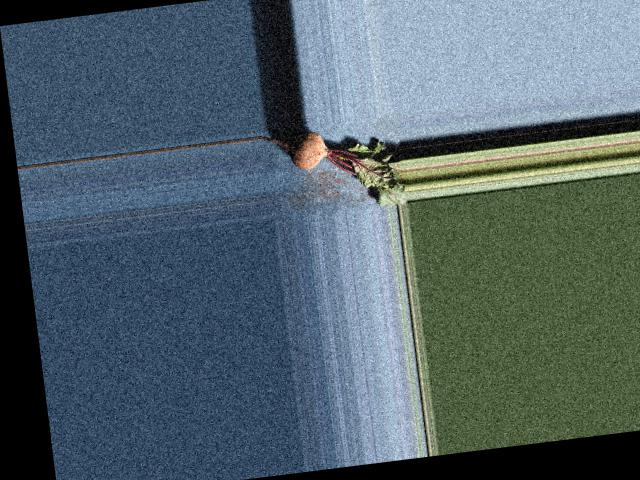beet: (262, 119, 408, 220)
